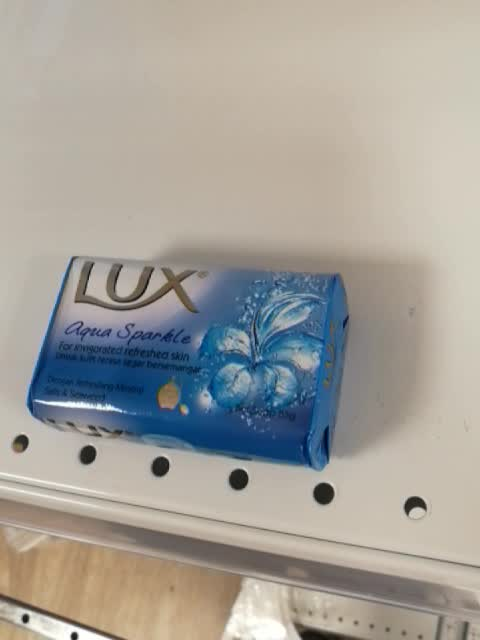soap: (24, 254, 350, 473)
